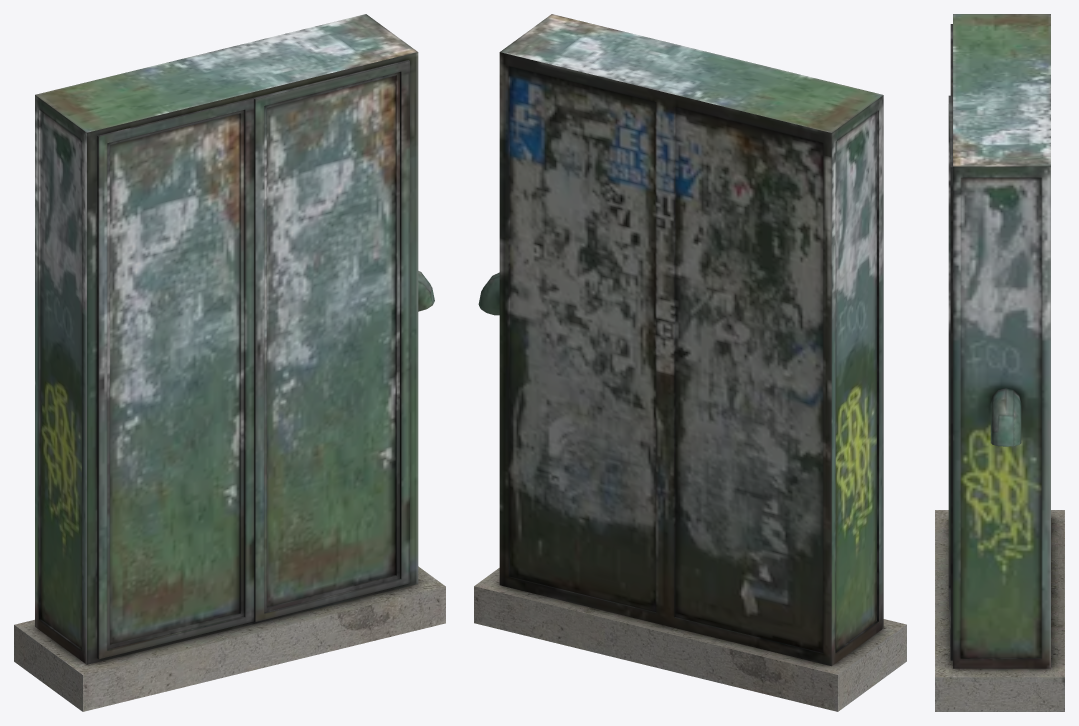
The model's file is electrical_panel_c.glb.
3 renders of one model, left to right at view 1: azimuth 30°, elevation 25°; view 2: azimuth 150°, elevation 25°; view 3: azimuth 270°, elevation 25°, orthographic. The views are drawn at different scales.
Visible parts, largest first — view 1: panel_04, panel_04_stand; view 2: panel_04, panel_04_stand; view 3: panel_04, panel_04_stand.
Part boxes in pixels (x1,y1,x2,y2): panel_04: [35, 14, 434, 664]; panel_04_stand: [14, 566, 445, 711]; panel_04: [478, 14, 883, 666]; panel_04_stand: [474, 568, 906, 711]; panel_04: [948, 14, 1050, 668]; panel_04_stand: [935, 510, 1064, 711].
Bounding box in the file's own units: 1.1 × 1.54 × 0.338.
Materials: 2 (2 with a texture image).
